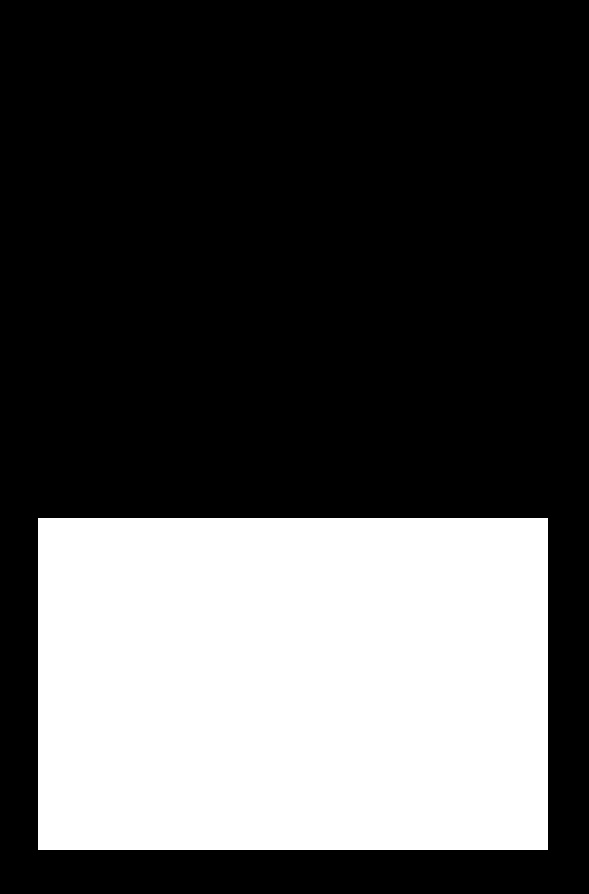table: (38, 518, 547, 849)
